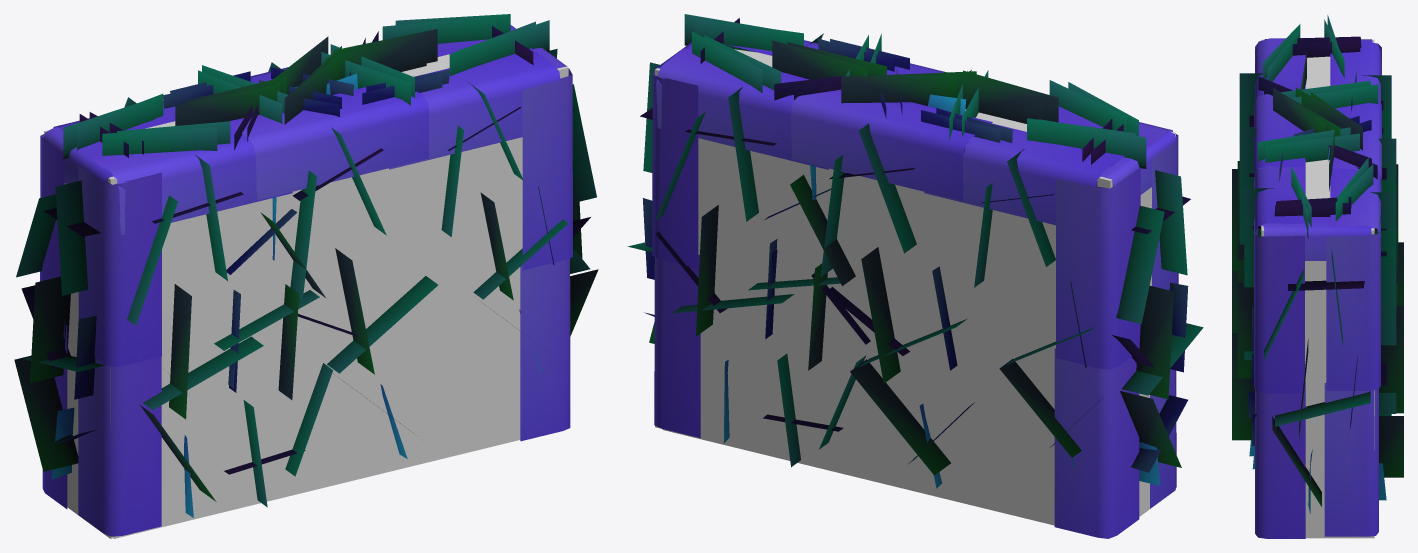
The model's file is cypress_hedge_3m.dae.
3 views of the same model, side by side, from view 1: azimuth 30°, elevation 25°; view 2: azimuth 150°, elevation 25°; view 3: azimuth 270°, elevation 25° (orthographic). The views are drawn at different scales.
Visible parts, largest first — view 1: cypress_hedge_3m_a200, cypress_hedge_3m_a8; view 2: cypress_hedge_3m_a200, cypress_hedge_3m_a8; view 3: cypress_hedge_3m_a200, cypress_hedge_3m_a8.
Part boxes in pixels (x1,y1,x2,y2): cypress_hedge_3m_a200: (14, 14, 598, 538); cypress_hedge_3m_a8: (40, 52, 572, 538); cypress_hedge_3m_a200: (627, 14, 1203, 538); cypress_hedge_3m_a8: (653, 50, 1177, 525); cypress_hedge_3m_a200: (1232, 15, 1403, 538); cypress_hedge_3m_a8: (1254, 39, 1381, 538).
Size of the model in its own units: 2.32 by 0.7595 by 1.65.
